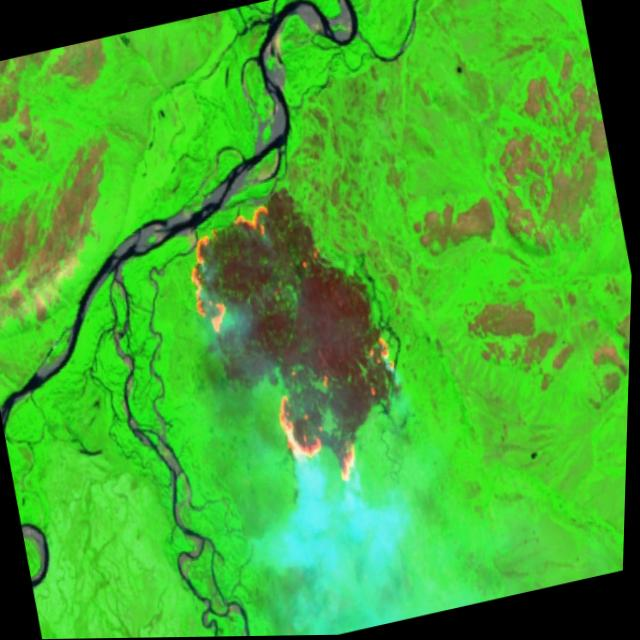fire: (169, 171, 429, 517)
